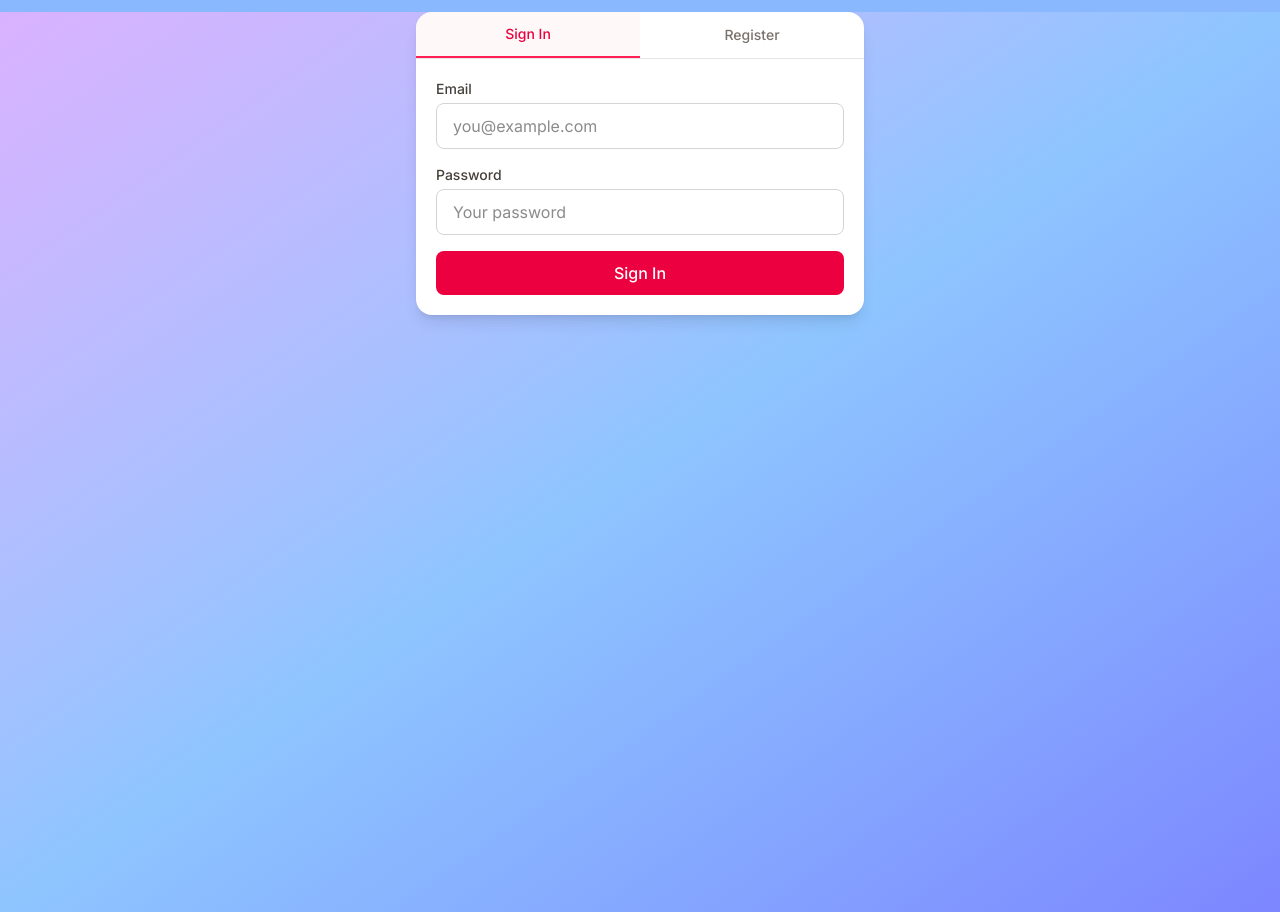
it: AuthTabs › tab switching › switches back to Sign In tab when clicked
# Go to Register
Click the button "Register" at point(752, 35), box 640,12 -> 864,58
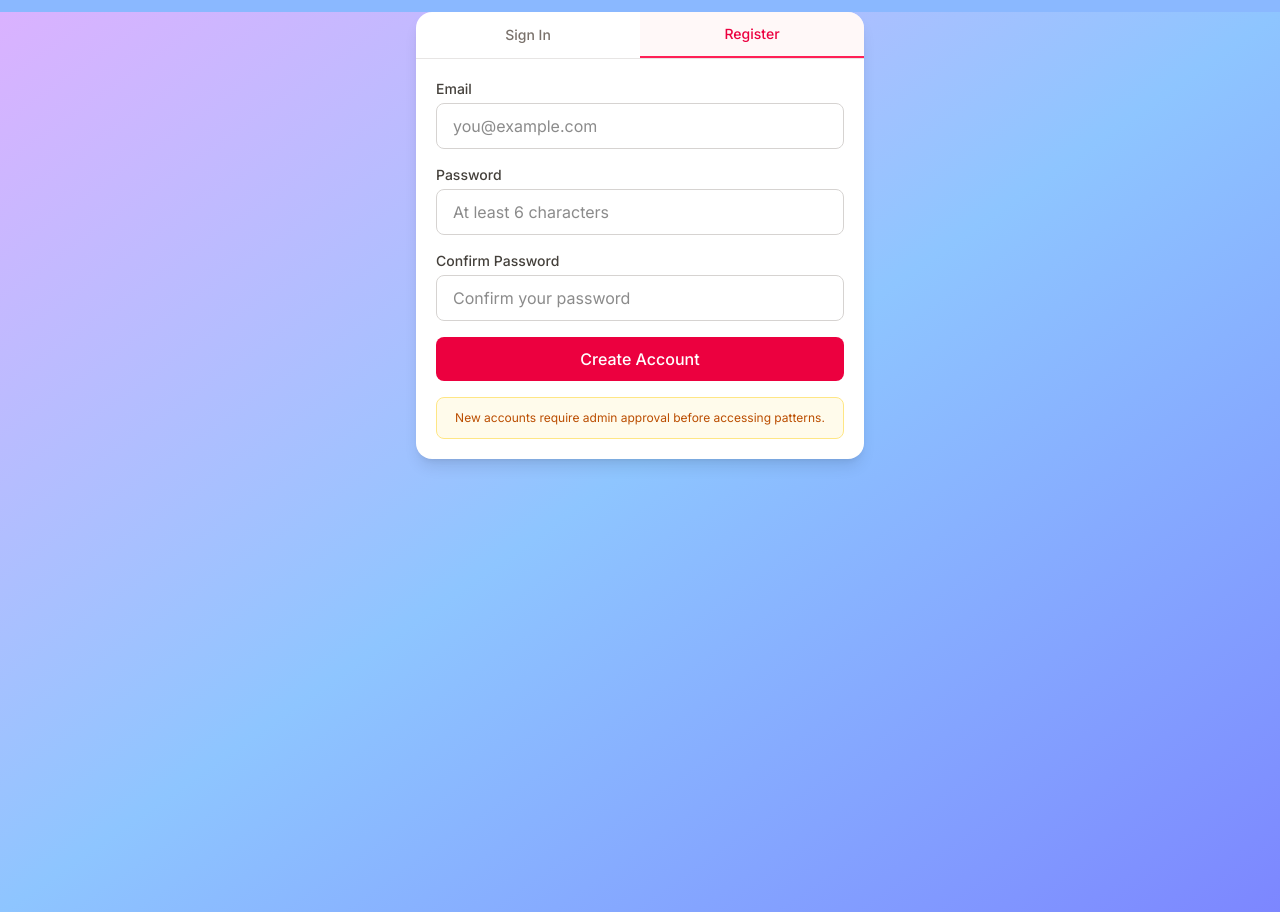
Now the password field labelled "Confirm Password" is shown, box 436,275 -> 844,321
# Go back to Sign In
Click the button "Sign In" at point(528, 35), box 416,12 -> 640,58
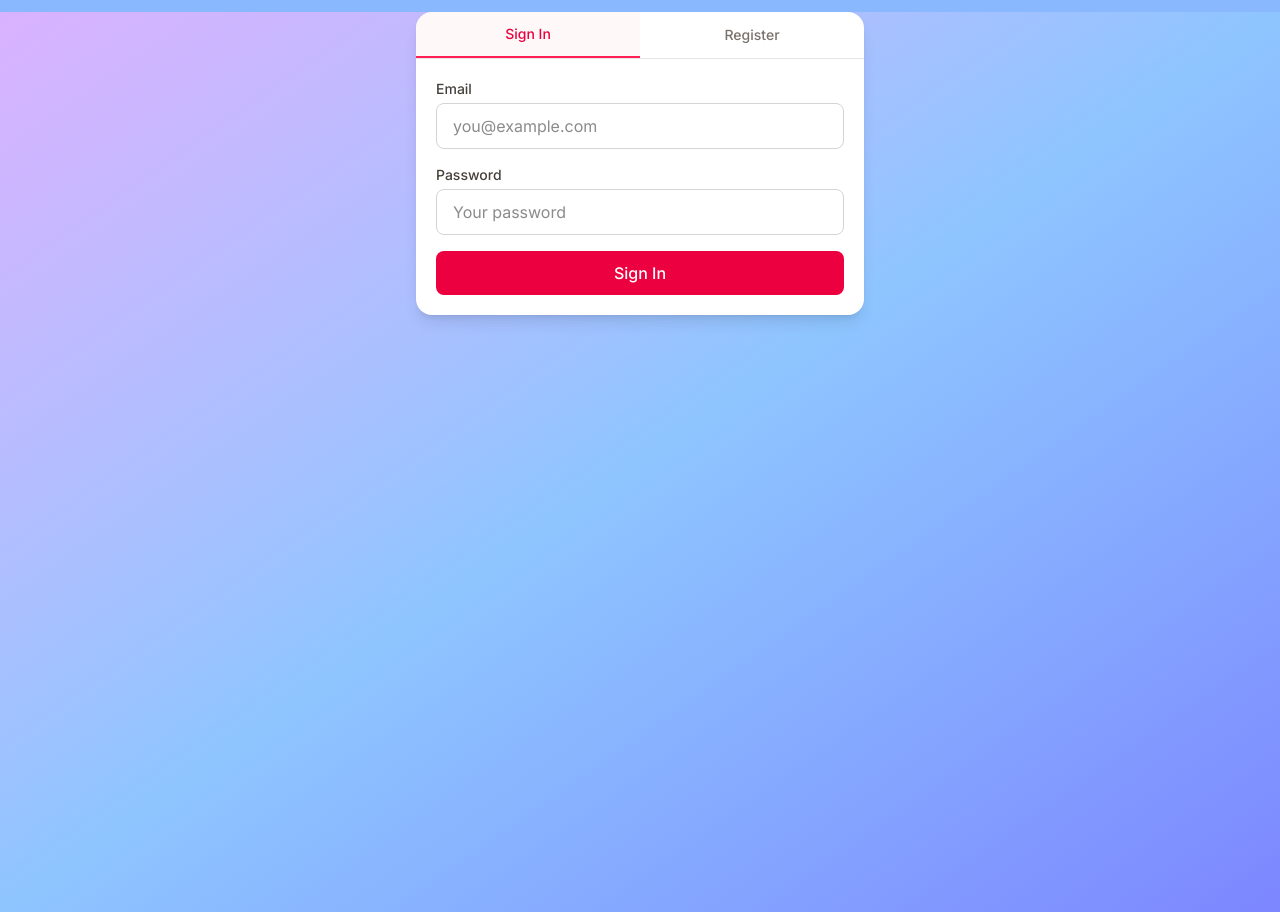
Now the label labelled "Confirm Password" is gone
